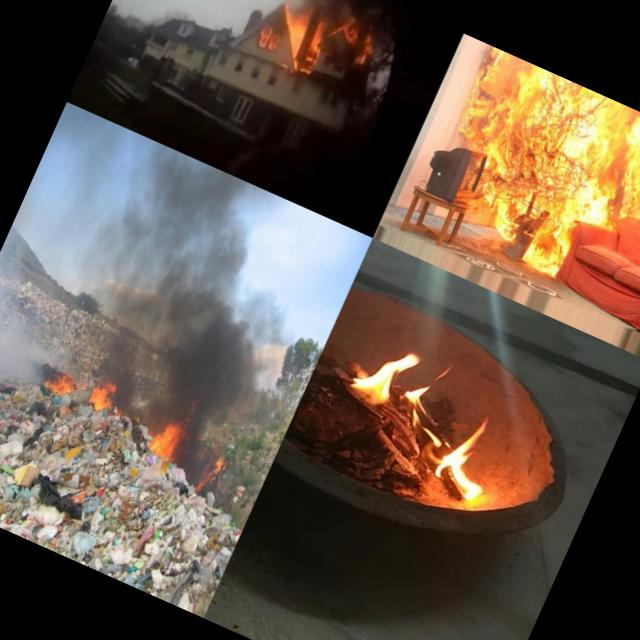fire: (412, 44, 632, 278), (320, 332, 520, 506), (585, 109, 640, 253), (323, 8, 383, 66), (141, 414, 188, 468), (190, 444, 229, 496), (39, 364, 81, 406), (84, 376, 121, 416), (254, 23, 283, 56)
smoke: (61, 152, 336, 438), (0, 207, 102, 399), (193, 0, 346, 22)
